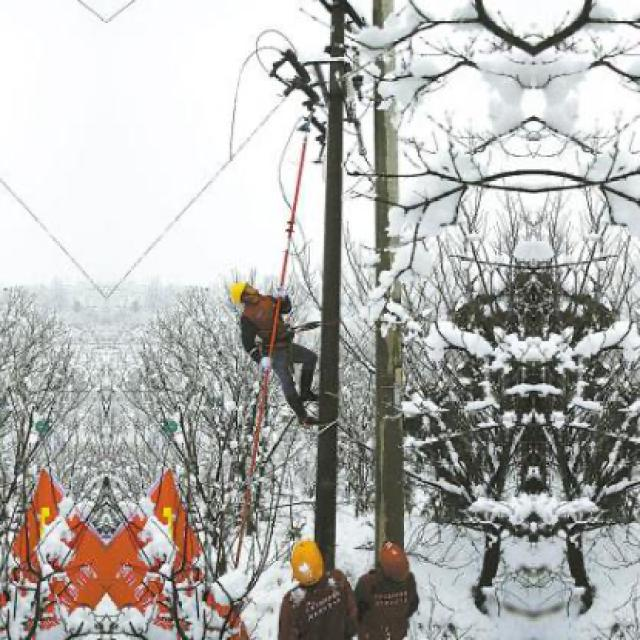con casco: (264, 524, 331, 612), (214, 262, 292, 318), (355, 539, 423, 587)
